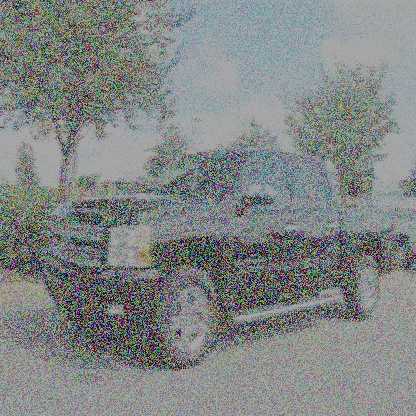Vehicle: (34, 142, 403, 373)
